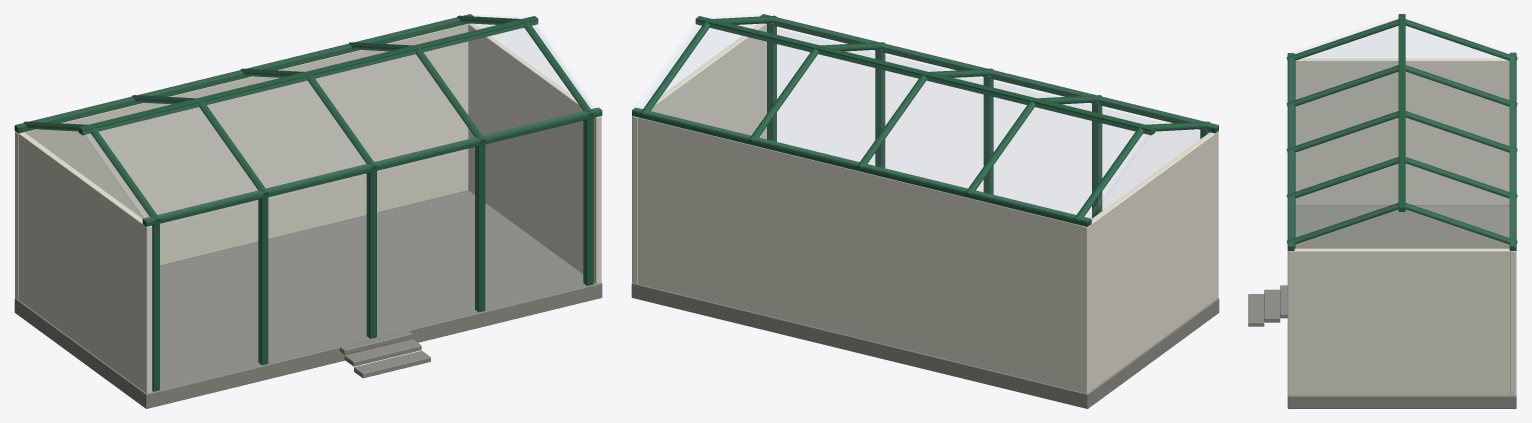
The model's file is pavilion.glb.
3 views of the same model, side by side, from view 1: azimuth 30°, elevation 25°; view 2: azimuth 150°, elevation 25°; view 3: azimuth 270°, elevation 25° (orthographic). The views are drawn at different scales.
Visible parts, largest first — view 1: roofed-cricket-pavilion; view 2: roofed-cricket-pavilion; view 3: roofed-cricket-pavilion.
Part boxes in pixels (bbox=[...]): roofed-cricket-pavilion: bbox=[14, 14, 602, 408]; roofed-cricket-pavilion: bbox=[631, 14, 1219, 408]; roofed-cricket-pavilion: bbox=[1248, 14, 1517, 408].
Size of the model in its own units: 8 by 3.9 by 4.71.
